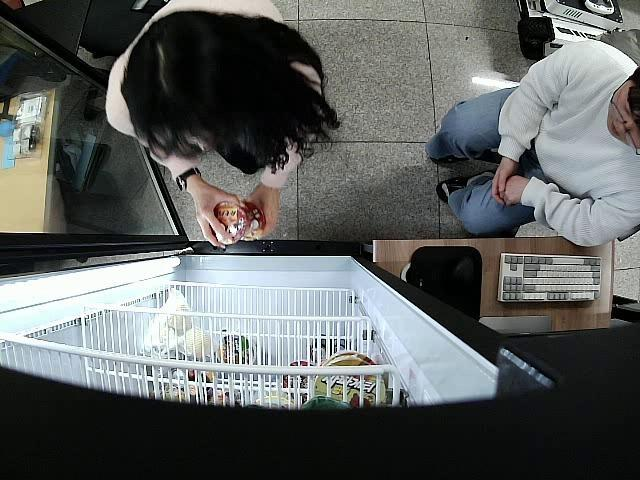06_nuguri_S: (208, 202, 249, 244), (241, 199, 265, 238)
